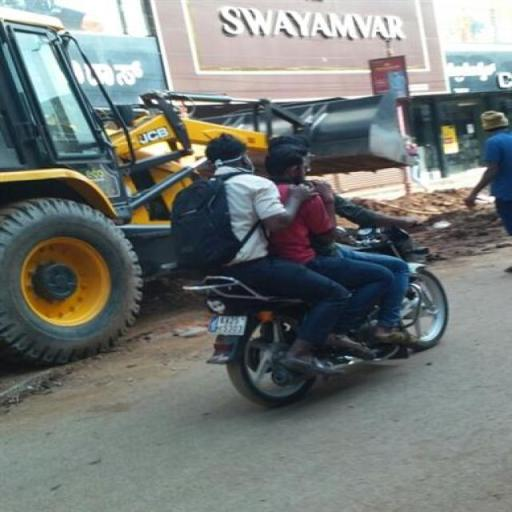tripple riding: (150, 112, 374, 275)
